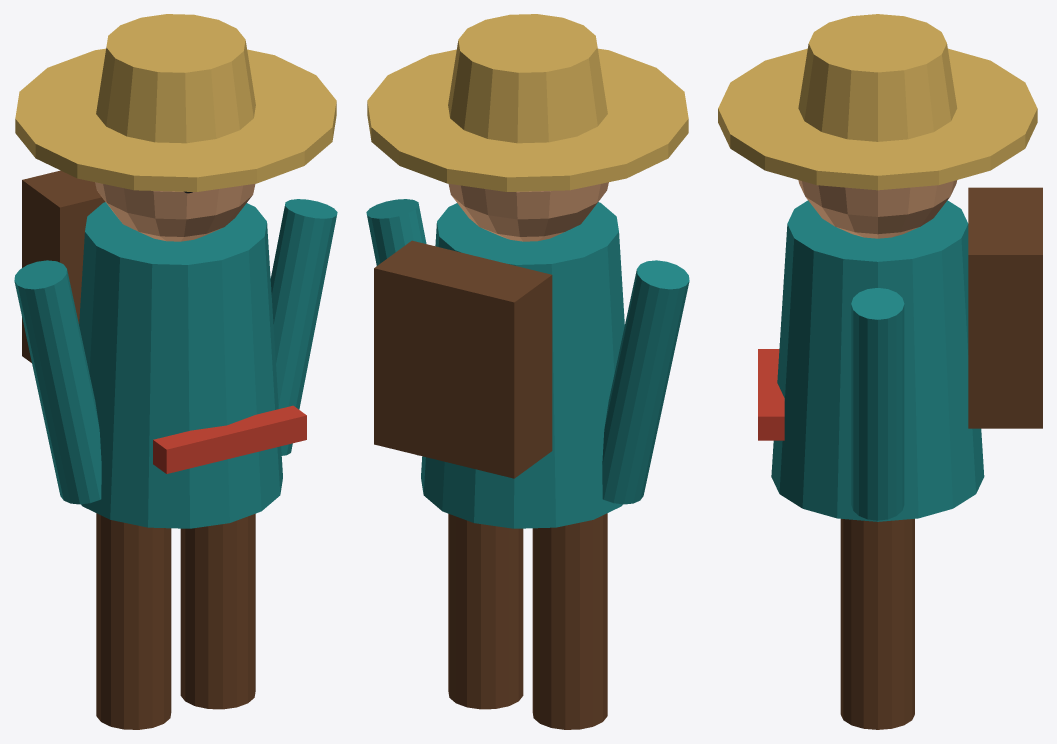
Rendered from explorer-lod0.glb.
The picture shows the model from 3 angles, left to right: view 1: azimuth 30°, elevation 25°; view 2: azimuth 150°, elevation 25°; view 3: azimuth 270°, elevation 25°; orthographic projection.
Parts seen in each view (by area): view 1: explorer; view 2: explorer; view 3: explorer.
Part boxes in pixels (box(x1,y1,x2,y2)): explorer: box(14, 14, 337, 729); explorer: box(366, 14, 689, 729); explorer: box(718, 14, 1042, 729).
Size of the model in its own units: 0.6761 by 1.35 by 0.61.
